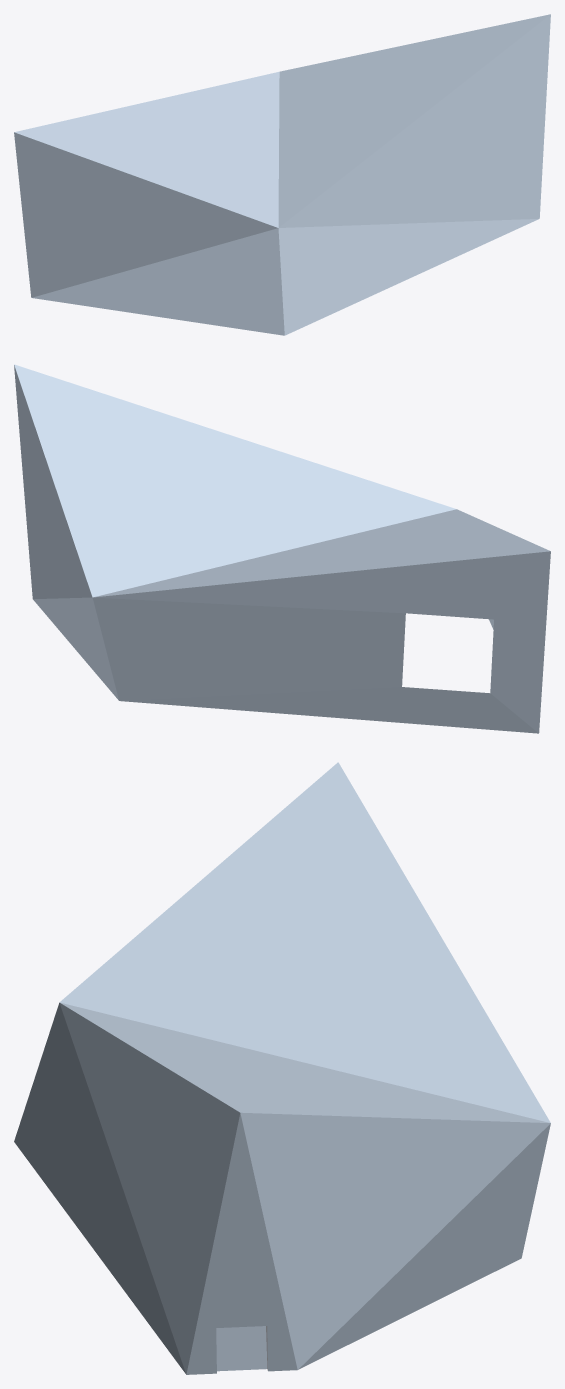
The picture shows the model from 3 angles, top to bottom: view 1: azimuth 30°, elevation 25°; view 2: azimuth 150°, elevation 25°; view 3: azimuth 270°, elevation 25°; orthographic projection. The views are drawn at different scales.
Parts seen in each view (by area): view 1: 70030076431358207lod; view 2: 70030076431358207lod; view 3: 70030076431358207lod.
Boxes of the visible parts, box(x1,y1,x2,y2) form: 70030076431358207lod: box(14, 14, 550, 335); 70030076431358207lod: box(14, 364, 550, 733); 70030076431358207lod: box(14, 762, 550, 1374).
Bounding box in the file's own units: 47.42 × 16.57 × 28.43.
1 material, 1 textured.
